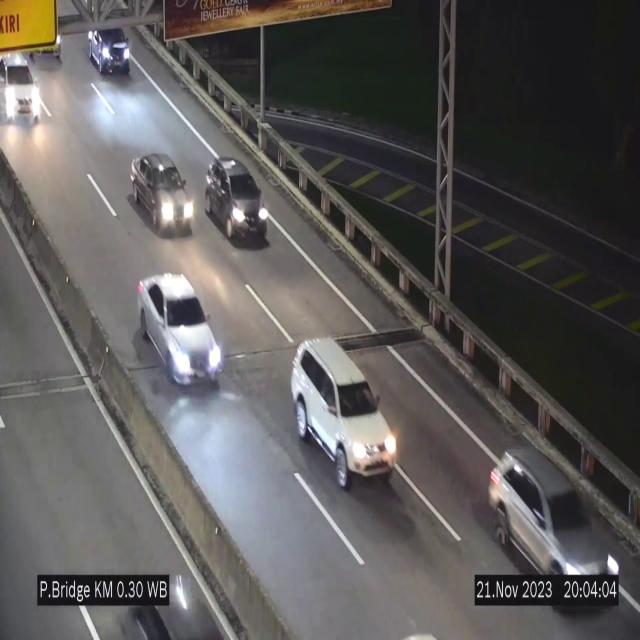Car: (489, 444, 619, 590), (290, 338, 396, 490), (136, 275, 224, 385), (202, 153, 272, 251), (128, 145, 196, 237), (0, 54, 42, 128), (88, 26, 130, 76)
